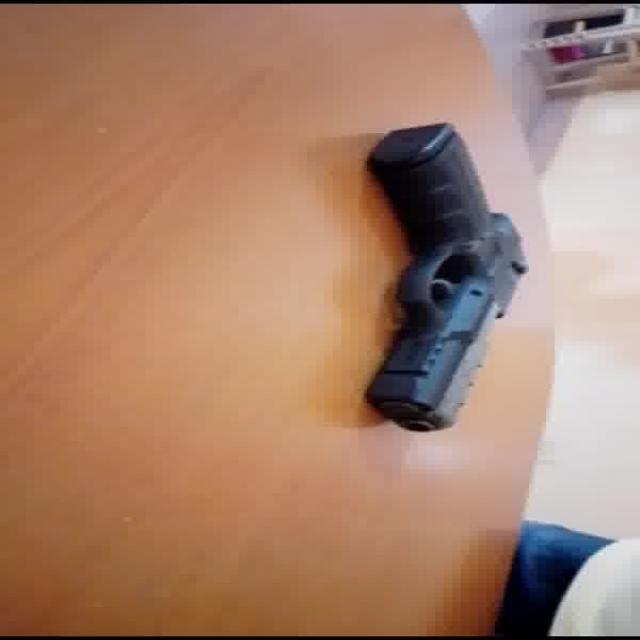weapon: (362, 121, 530, 432)
